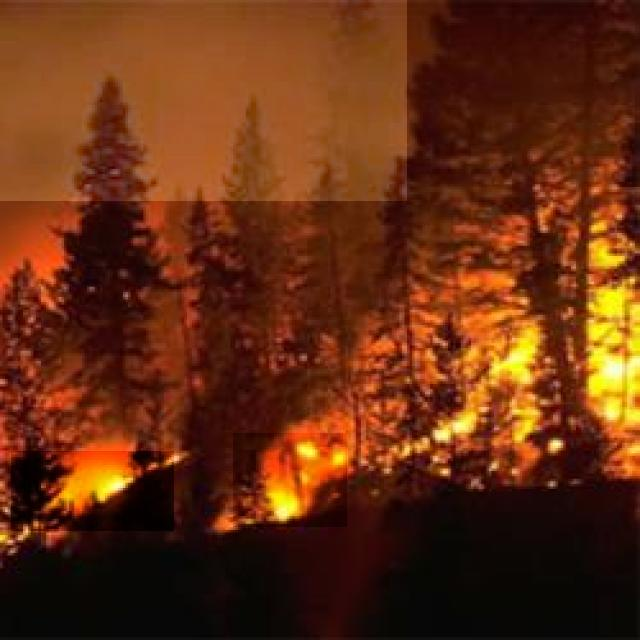Fire: (452, 314, 640, 445), (11, 452, 174, 532), (233, 433, 347, 528)
Smoke: (0, 0, 407, 201)
